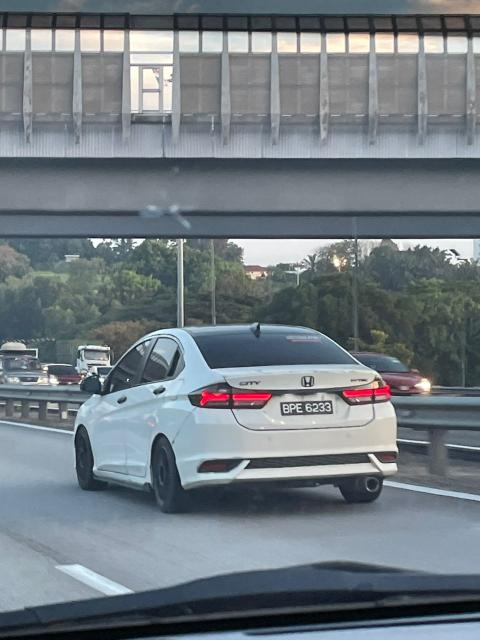License_Plate: (279, 400, 343, 422)
car: (68, 323, 401, 508)
